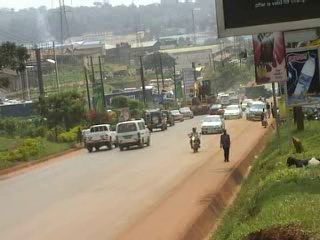Car: (140, 105, 167, 136), (199, 112, 227, 138), (156, 107, 175, 130), (221, 101, 244, 120), (168, 108, 185, 124), (177, 105, 193, 121), (238, 96, 254, 112), (208, 101, 226, 115)
Motorcycle: (186, 123, 203, 153), (237, 94, 246, 110), (255, 94, 265, 104)
